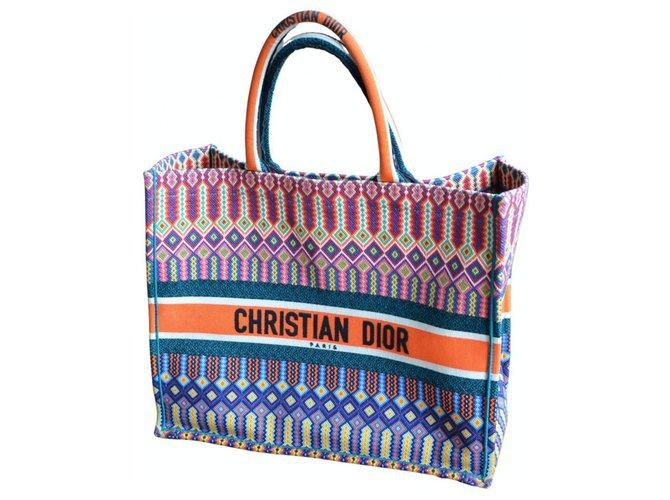DIOR: (223, 289, 432, 371), (263, 5, 353, 45)
